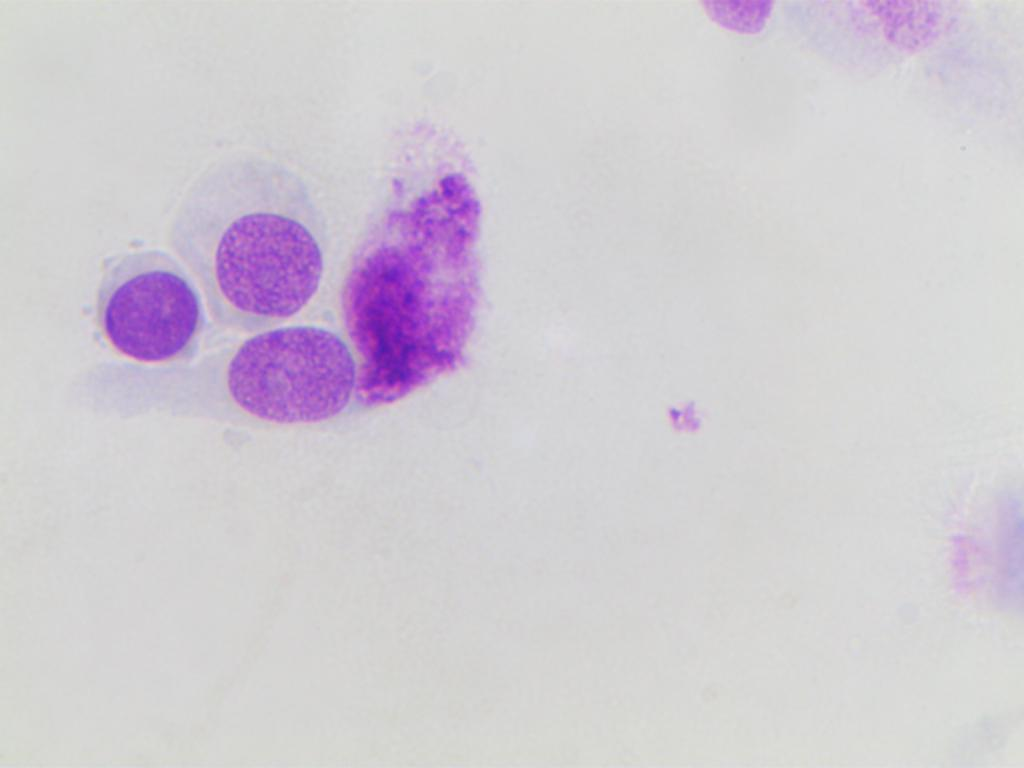artifact: (346, 153, 510, 417)
epithelial: (181, 140, 339, 326), (91, 233, 207, 368), (217, 326, 347, 429)
